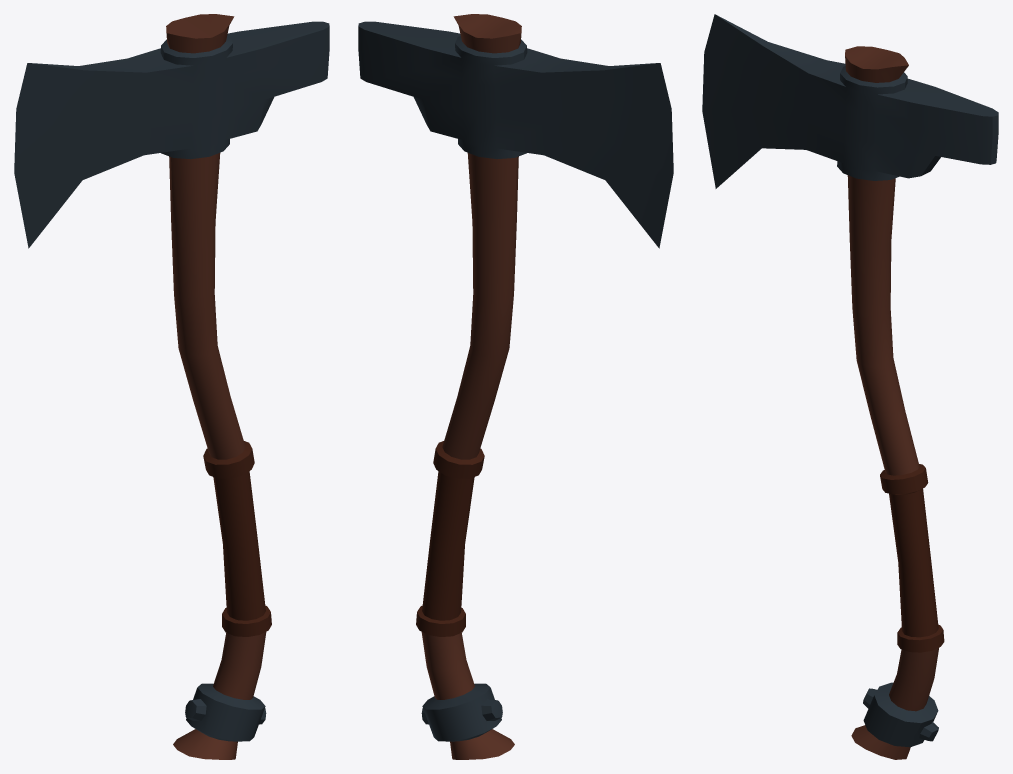
File: medievalAxe.fbx
3 views of the same model, side by side, from view 1: azimuth 30°, elevation 25°; view 2: azimuth 150°, elevation 25°; view 3: azimuth 330°, elevation 25° (orthographic). The views are drawn at different scales.
Visible parts, largest first — view 1: axe; view 2: axe; view 3: axe.
Part boxes in pixels (left/top/right/bottom): axe: left=14, top=14, right=329, bottom=759; axe: left=358, top=14, right=673, bottom=759; axe: left=702, top=14, right=998, bottom=759.
Bounding box in the file's own units: 39.74 × 89.57 × 7.78.
